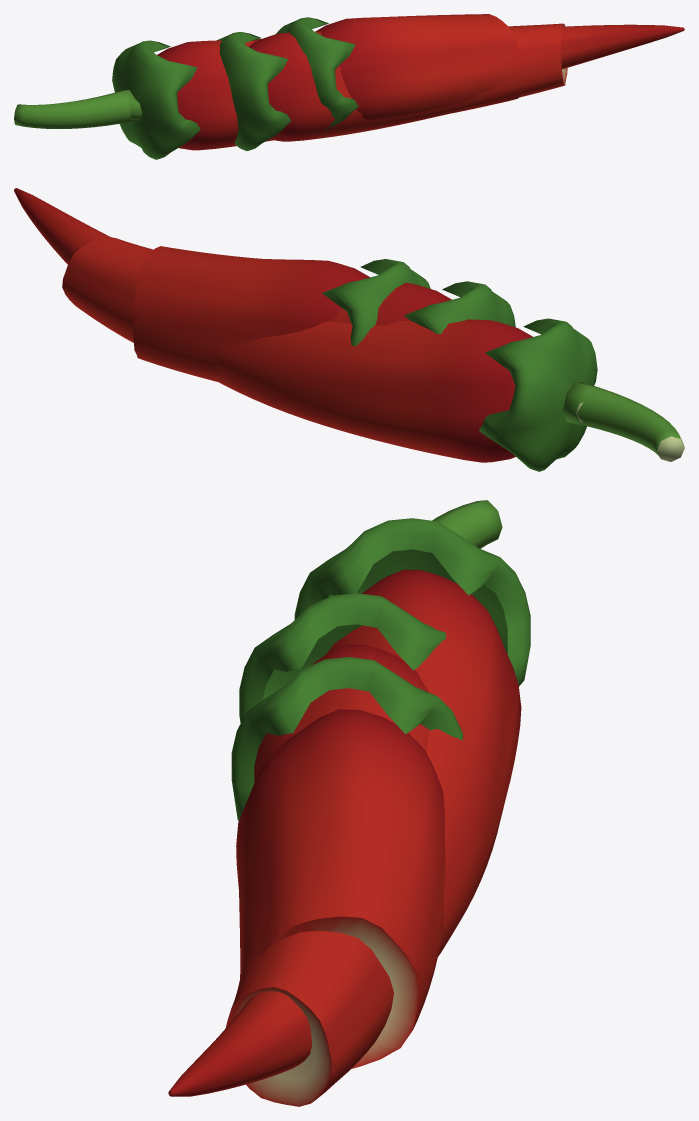
Rendered from chili_held.glb.
3 views of the same model, one above another, from view 1: azimuth 30°, elevation 25°; view 2: azimuth 150°, elevation 25°; view 3: azimuth 270°, elevation 25° (orthographic). The views are drawn at different scales.
Visible parts, largest first — view 1: eat_2_Body, eat_1_Body, eat_0_Body, eat_0_Cap, eat_1_Cap, eat_2_Cap, eat_0_Stalk; view 2: eat_0_Body, eat_2_Body, eat_0_Cap, eat_1_Body, eat_0_Stalk, eat_2_Cap, eat_1_Cap; view 3: eat_2_Body, eat_0_Body, eat_1_Body, eat_0_Cap, eat_2_Cap, eat_1_Cap, eat_0_Stalk.
Part boxes in pixels (bbox=[...]): eat_2_Body: bbox=[315, 14, 519, 120]; eat_1_Body: bbox=[249, 23, 567, 141]; eat_0_Body: bbox=[157, 24, 684, 150]; eat_0_Cap: bbox=[112, 40, 200, 159]; eat_1_Cap: bbox=[216, 32, 291, 150]; eat_2_Cap: bbox=[276, 17, 358, 131]; eat_0_Stalk: bbox=[14, 90, 135, 128]; eat_0_Body: bbox=[14, 188, 532, 462]; eat_2_Body: bbox=[132, 246, 369, 381]; eat_0_Cap: bbox=[479, 318, 597, 471]; eat_1_Body: bbox=[62, 236, 451, 342]; eat_0_Stalk: bbox=[563, 382, 684, 461]; eat_2_Cap: bbox=[322, 259, 430, 346]; eat_1_Cap: bbox=[404, 281, 515, 333]; eat_2_Body: bbox=[236, 709, 445, 1068]; eat_0_Body: bbox=[168, 569, 521, 1096]; eat_1_Body: bbox=[226, 644, 429, 1106]; eat_0_Cap: bbox=[294, 518, 530, 686]; eat_2_Cap: bbox=[231, 657, 463, 820]; eat_1_Cap: bbox=[239, 593, 445, 722]; eat_0_Stalk: bbox=[432, 500, 502, 548].
Size of the model in its own units: 0.1693 by 0.0317 by 0.0446.
